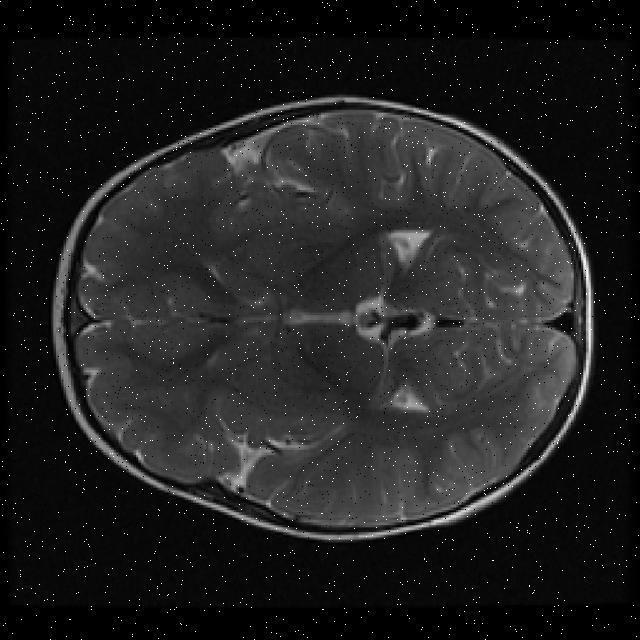No_Tumor: (52, 97, 593, 541)
